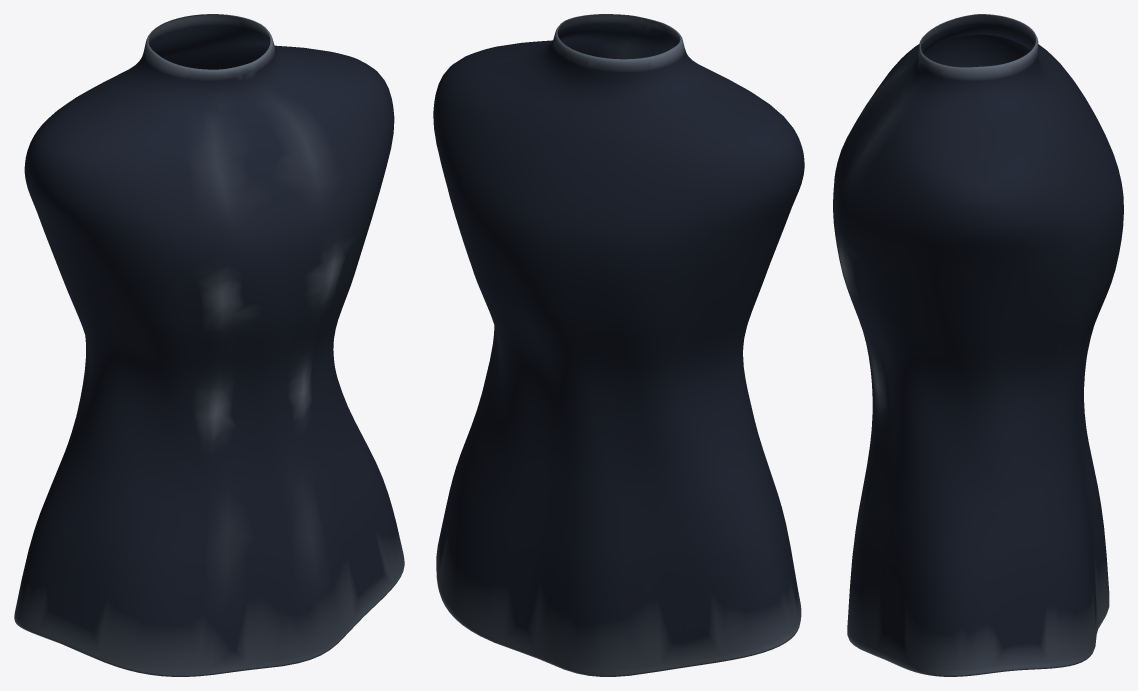
File: mirage-attire-220bc184b2f6.glb
3 views of the same model, side by side, from view 1: azimuth 30°, elevation 25°; view 2: azimuth 150°, elevation 25°; view 3: azimuth 270°, elevation 25° (orthographic).
Visible parts, largest first — view 1: SM_Hero_mirage_TailoredCoat_A; view 2: SM_Hero_mirage_TailoredCoat_A; view 3: SM_Hero_mirage_TailoredCoat_A.
Part boxes in pixels (x1=…): SM_Hero_mirage_TailoredCoat_A: x1=14, y1=14, x2=404, y2=676; SM_Hero_mirage_TailoredCoat_A: x1=433, y1=14, x2=804, y2=676; SM_Hero_mirage_TailoredCoat_A: x1=833, y1=14, x2=1123, y2=676.
Bounding box in the file's own units: 0.4119 × 0.6366 × 0.289.
